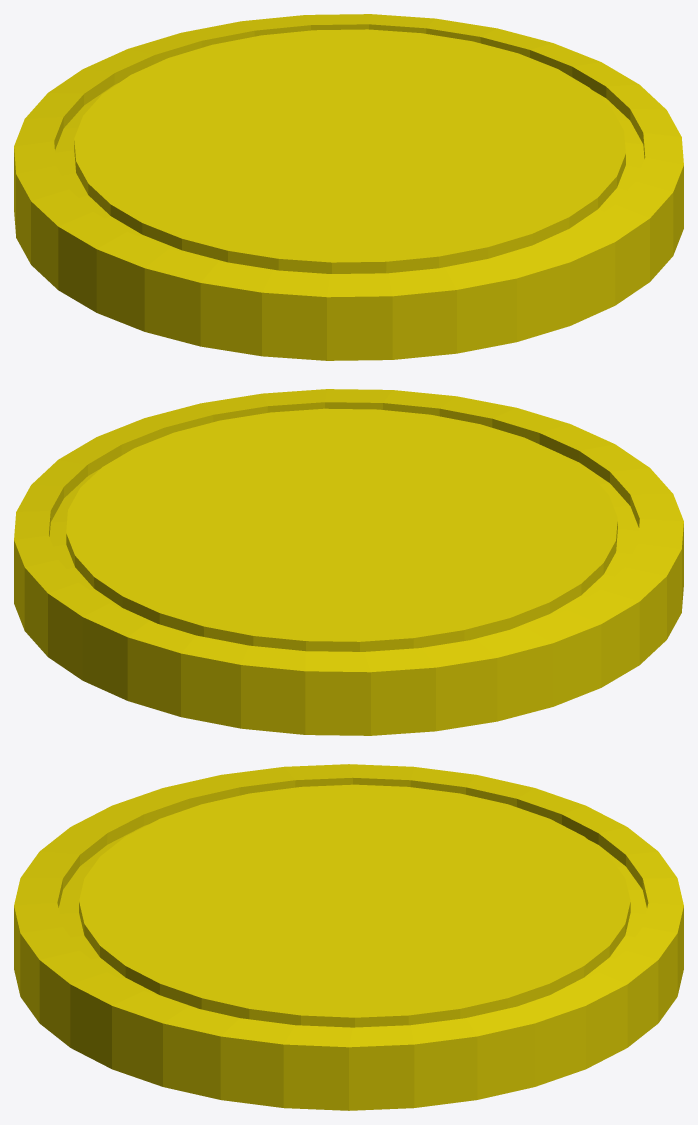
The model's file is coin.glb.
The picture shows the model from 3 angles, top to bottom: view 1: azimuth 30°, elevation 25°; view 2: azimuth 150°, elevation 25°; view 3: azimuth 270°, elevation 25°; orthographic projection.
Visible parts, largest first — view 1: Cylinder; view 2: Cylinder; view 3: Cylinder.
Boxes of the visible parts, bbox=[...] form: Cylinder: bbox=[14, 14, 683, 360]; Cylinder: bbox=[14, 389, 683, 735]; Cylinder: bbox=[14, 764, 683, 1110].
Size of the model in its own units: 2 by 0.2307 by 2.
